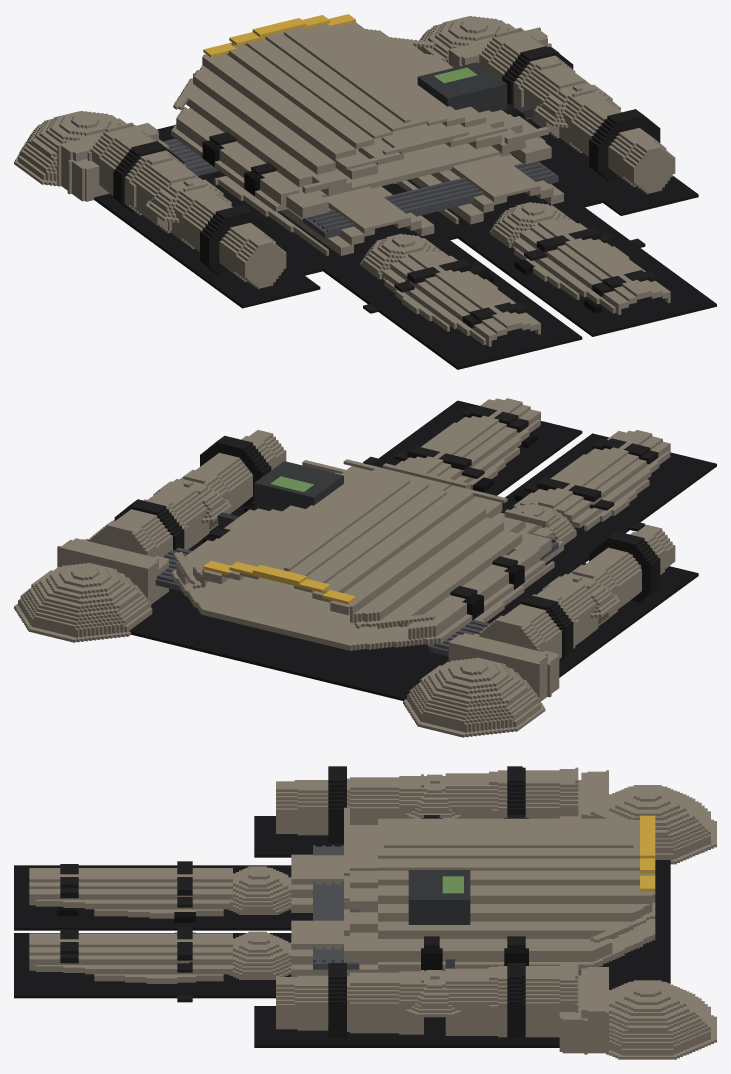
File: armor_nomad_lightplate_on.glb
3 views of the same model, one above another, from view 1: azimuth 30°, elevation 25°; view 2: azimuth 150°, elevation 25°; view 3: azimuth 270°, elevation 25° (orthographic). The views are drawn at different scales.
Visible parts, largest first — view 1: armor_nomad_lightplate_on:compound; view 2: armor_nomad_lightplate_on:compound; view 3: armor_nomad_lightplate_on:compound.
Boxes of the visible parts, box(x1,y1,x2,y2) form: armor_nomad_lightplate_on:compound: box(14, 14, 716, 369); armor_nomad_lightplate_on:compound: box(14, 398, 716, 737); armor_nomad_lightplate_on:compound: box(14, 766, 716, 1059).
Size of the model in its own units: 0.776 by 0.136 by 0.912.
